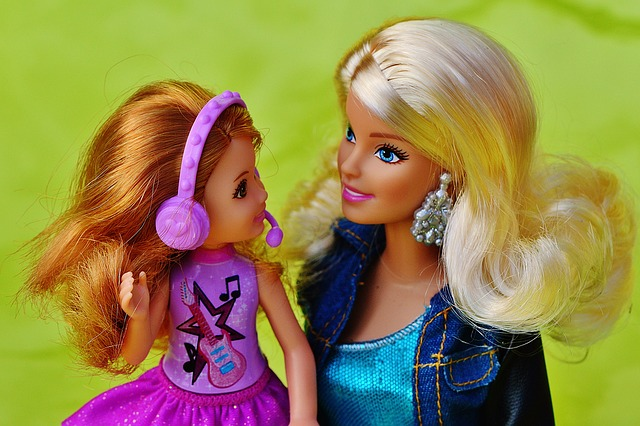headphones: (156, 91, 248, 251)
